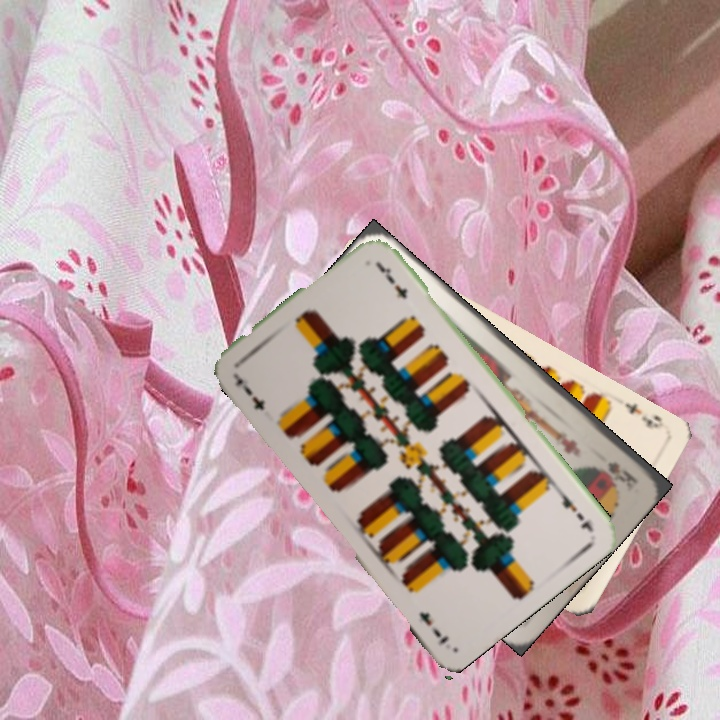E7: (552, 484, 596, 535), (230, 370, 268, 414)
E9: (620, 398, 667, 432)
SK: (603, 457, 640, 491)
